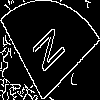N: (25, 24, 67, 80)
